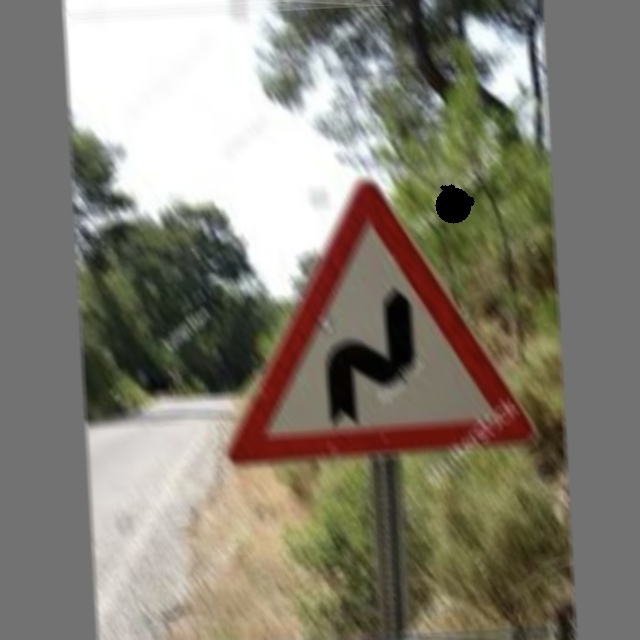Right_Reverse_Bend: (243, 192, 524, 456)
